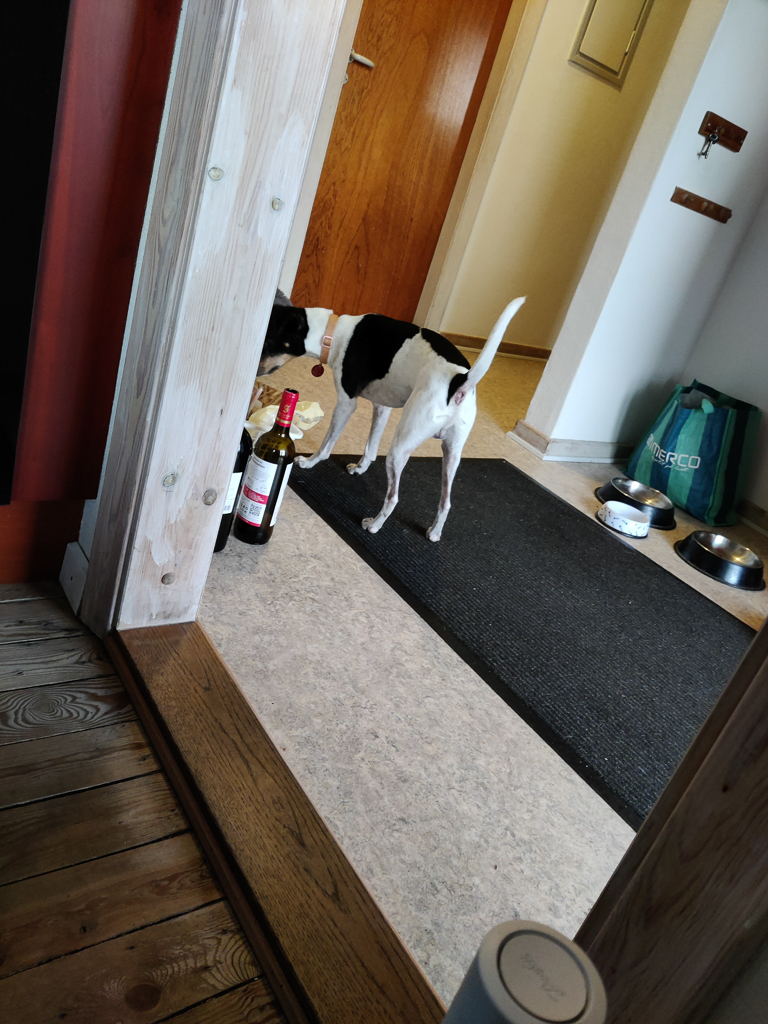Dog: (253, 245, 534, 542)
